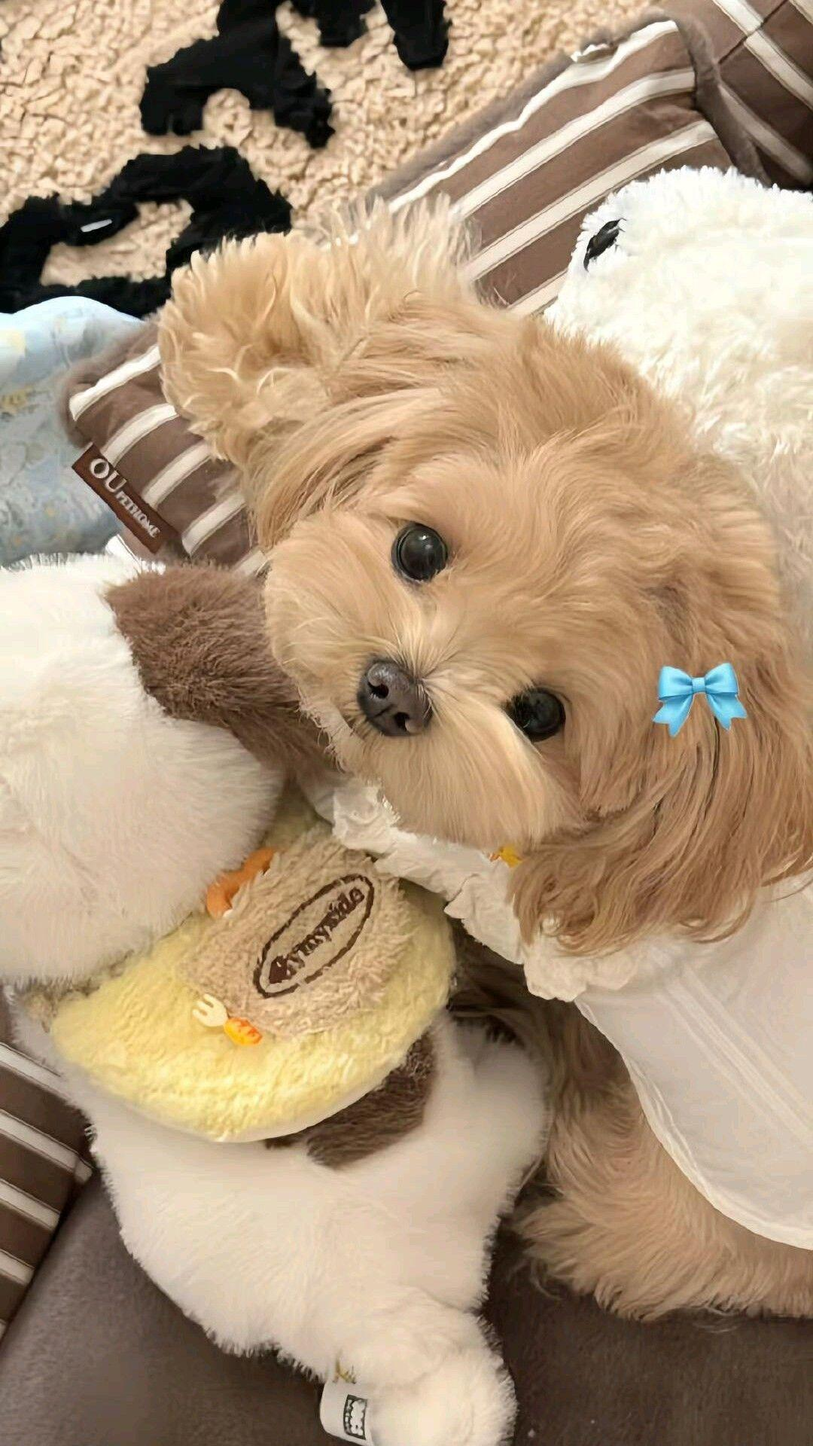adult_dog: (155, 193, 813, 1335)
